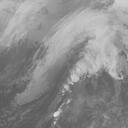cyclone: (35, 36, 98, 81)
